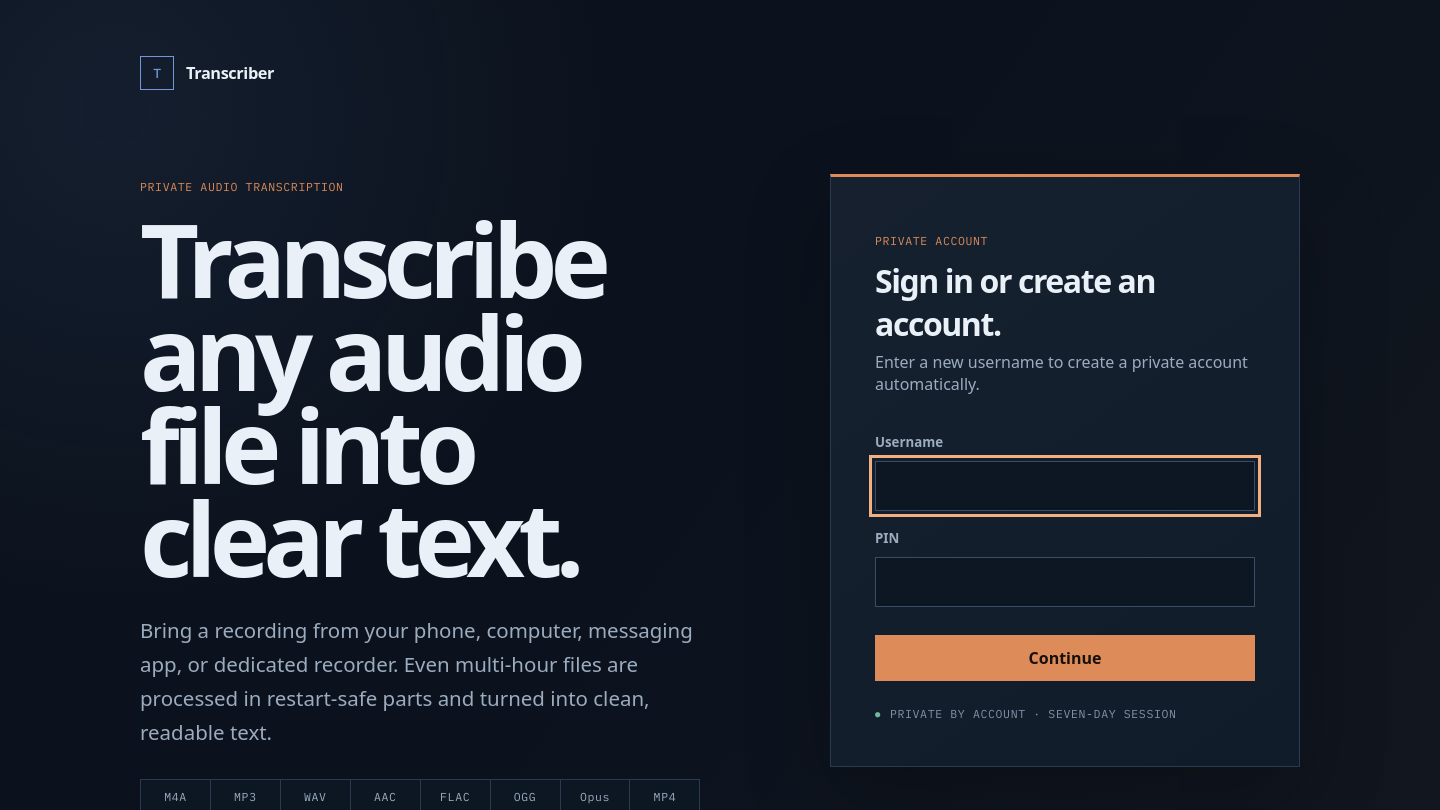
it: LoginPage › shows the exact username_unavailable account error
In the field labelled "Username": (1065, 486) [875,461,1255,511], type "existing-user"
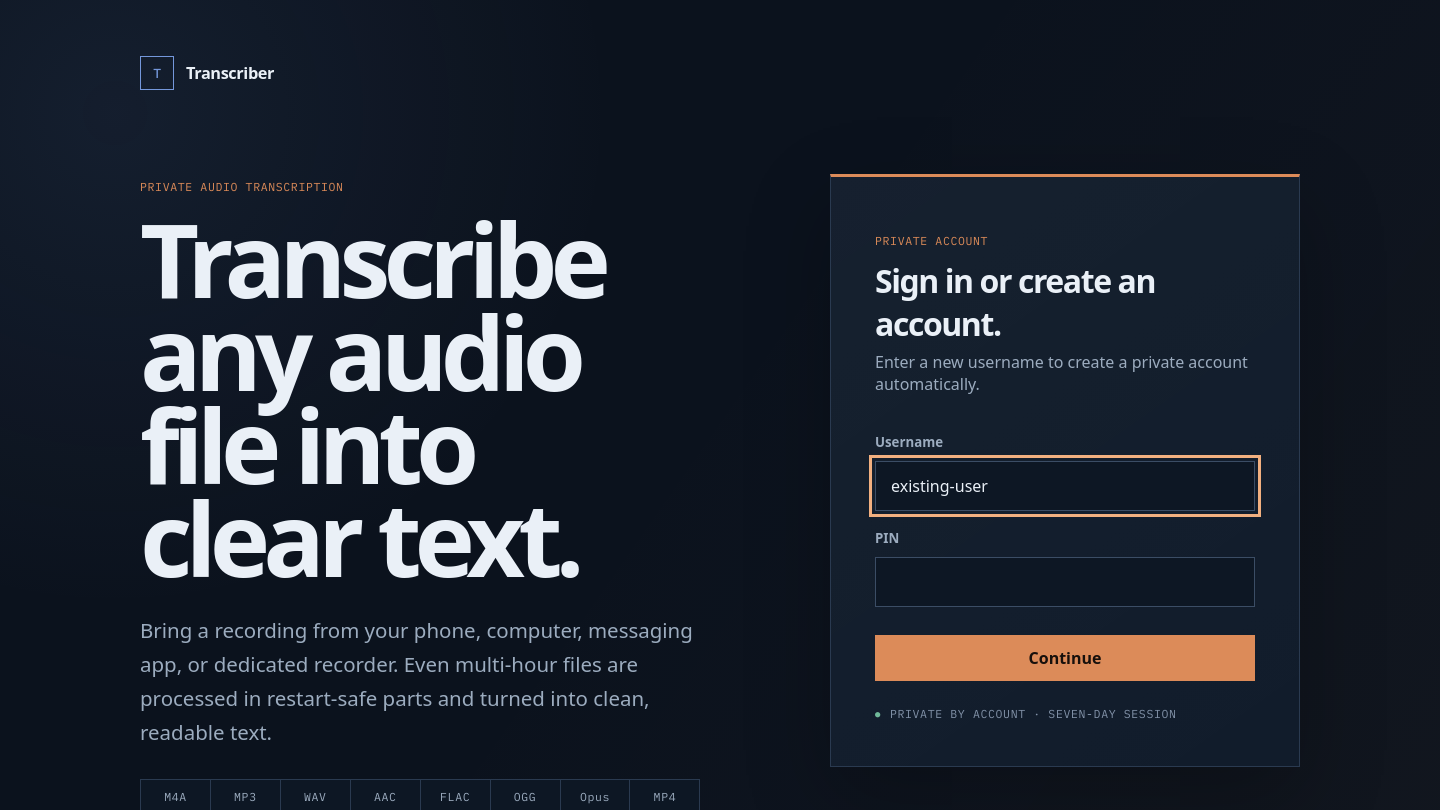
In the password field labelled "PIN": (1065, 582) [875,557,1255,607], type "123456"
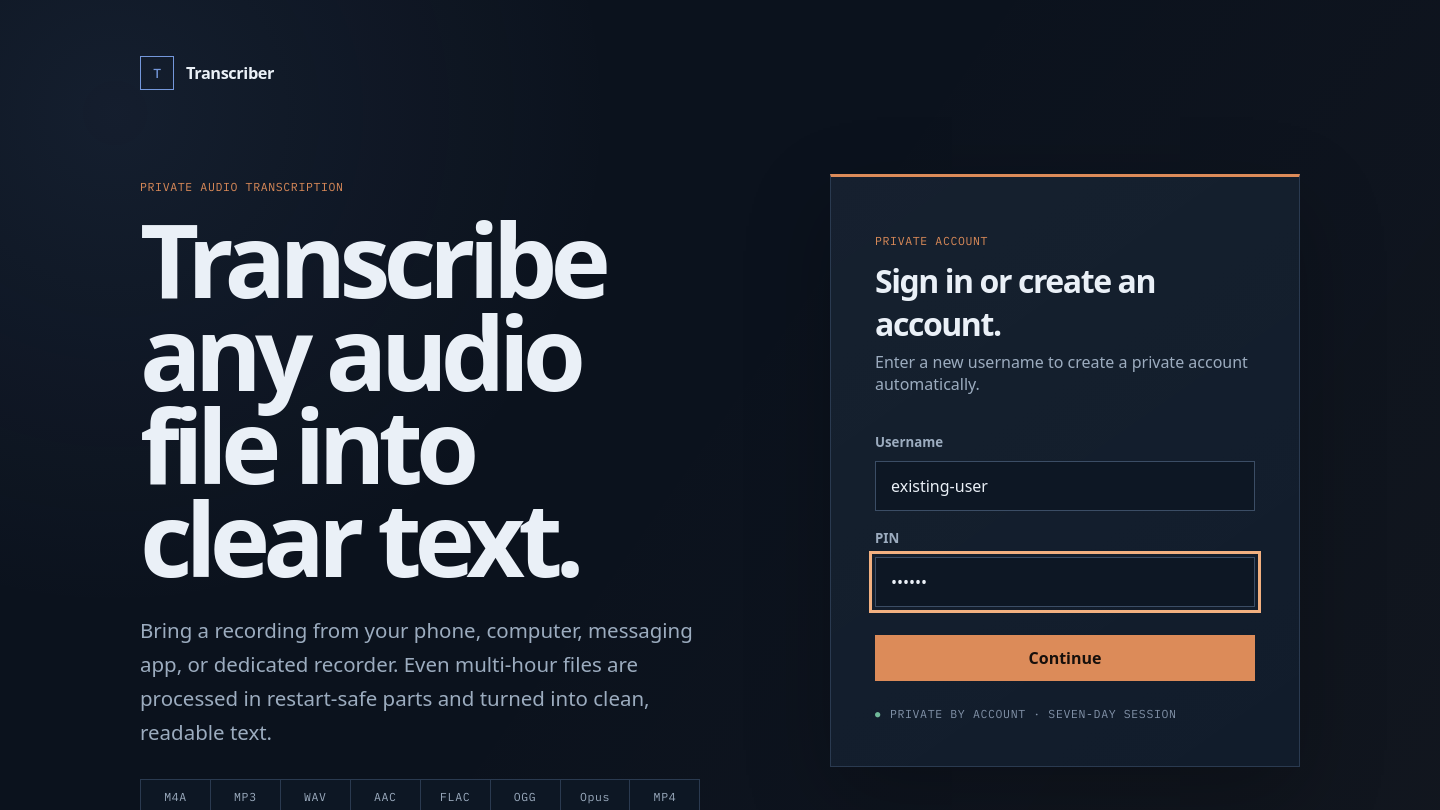
Click the button "Continue": (1065, 658) [875,635,1255,681]
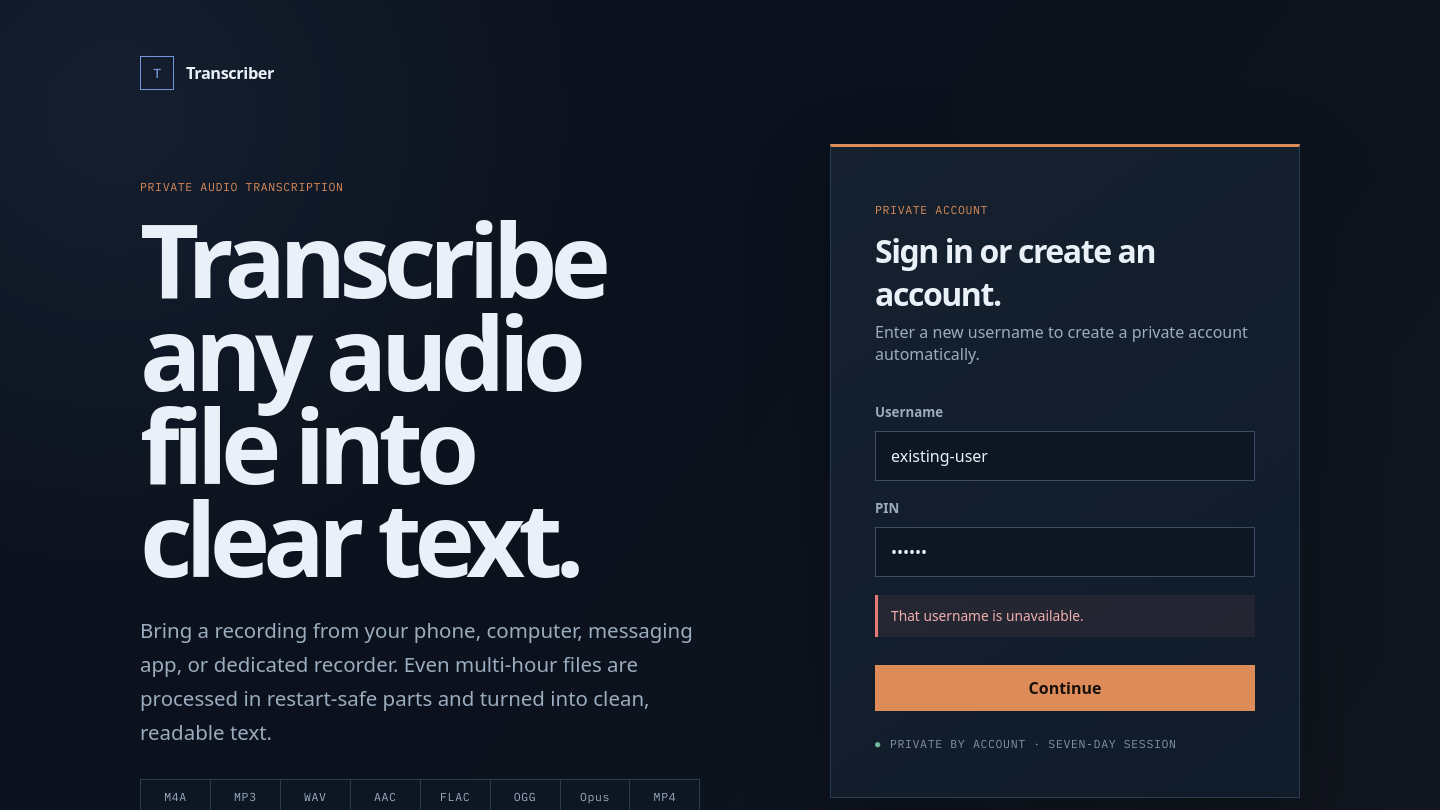
Expected: the message reads "That username is unavailable.", [891,606,1084,625]
